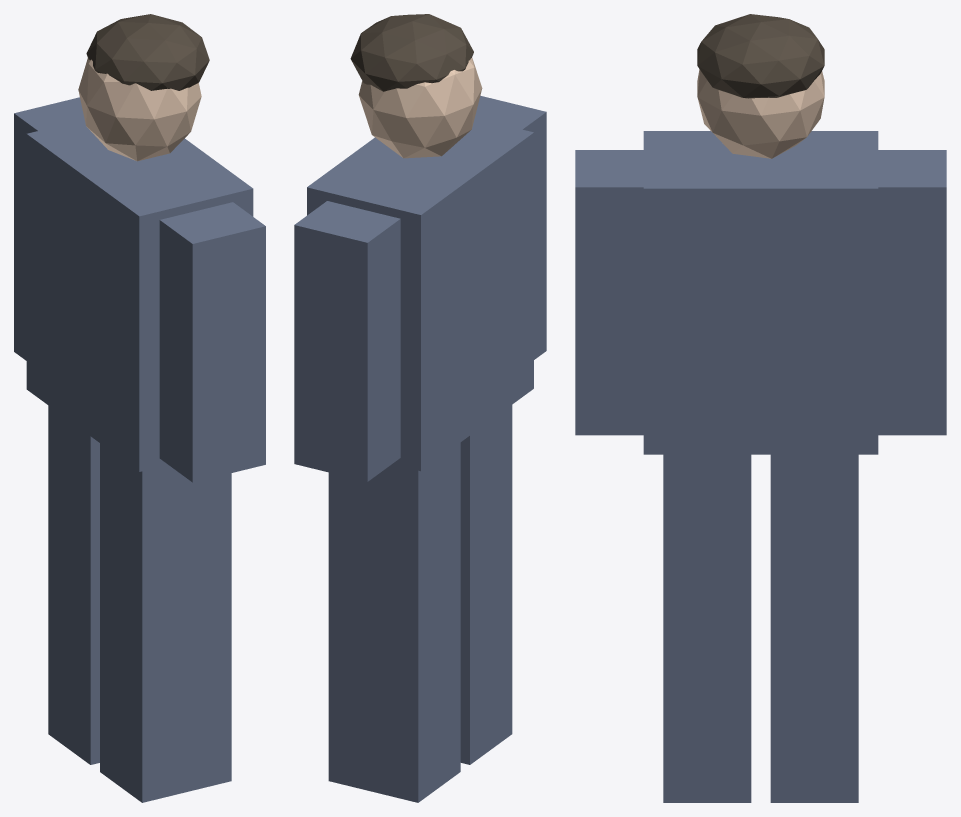
File: Man.glb
The picture shows the model from 3 angles, left to right: view 1: azimuth 30°, elevation 25°; view 2: azimuth 150°, elevation 25°; view 3: azimuth 270°, elevation 25°; orthographic projection. The views are drawn at different scales.
Parts seen in each view (by area): view 1: ManTorso, ManLeg2, ManArm2, ManLeg1, ManHead, ManHair, ManArm1; view 2: ManTorso, ManLeg1, ManArm1, ManLeg2, ManHead, ManHair, ManArm2; view 3: ManTorso, ManLeg1, ManLeg2, ManArm1, ManArm2, ManHair, ManHead.
Part boxes in pixels (x1,y1,x2,y2): ManTorso: (26,119,253,471); ManLeg2: (100,443,231,802); ManArm2: (159,202,265,482); ManLeg1: (48,405,99,764); ManHead: (78,58,201,161); ManHair: (86,14,209,90); ManArm1: (14,97,84,360); ManTorso: (307,118,533,471); ManLeg1: (328,442,460,802); ManArm1: (294,201,400,481); ManLeg2: (460,405,512,764); ManHead: (358,57,482,158); ManHair: (350,14,473,91); ManArm2: (475,95,546,359); ManTorso: (643,131,878,454); ManLeg1: (770,454,858,802); ManLeg2: (663,454,751,802); ManArm1: (878,150,946,435); ManArm2: (575,150,643,435); ManHair: (697,14,824,98); ManHead: (697,69,824,158).
Size of the model in its own units: 0.29 by 1.72 by 0.76.
